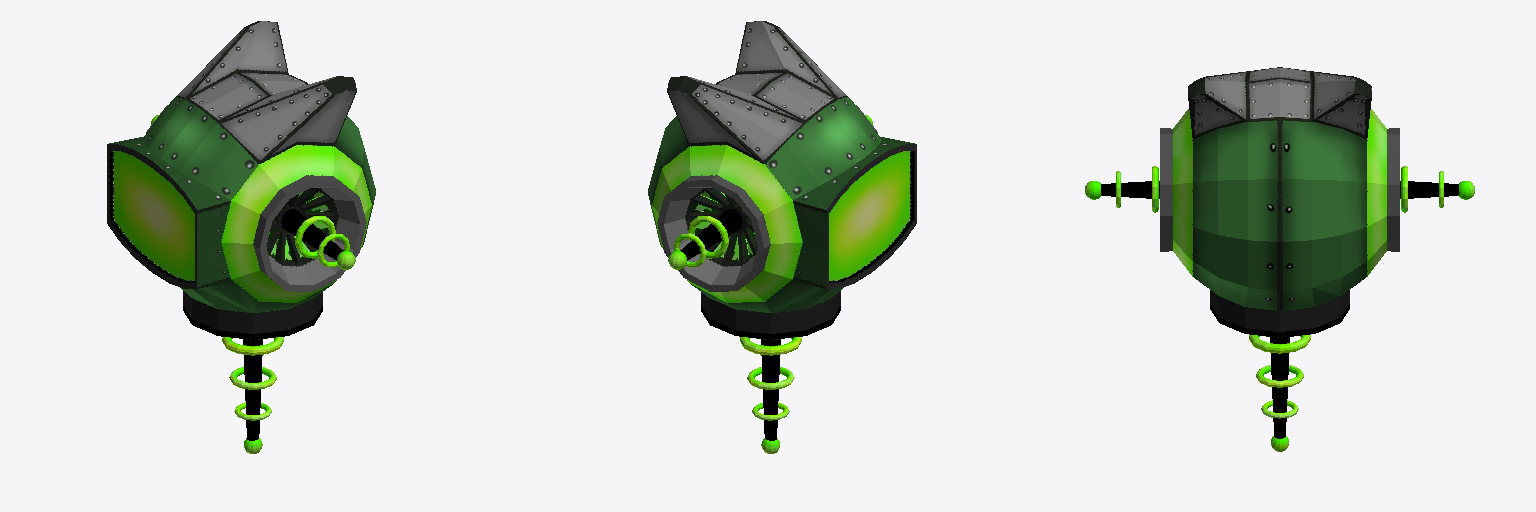
3 renders of one model, left to right at view 1: azimuth 30°, elevation 25°; view 2: azimuth 150°, elevation 25°; view 3: azimuth 270°, elevation 25°, orthographic.
Parts seen in each view (by area): view 1: Object_texture.jpg; view 2: Object_texture.jpg; view 3: Object_texture.jpg.
Part boxes in pixels (x1,y1,x2,y2): Object_texture.jpg: (107, 21, 375, 453); Object_texture.jpg: (648, 21, 916, 453); Object_texture.jpg: (1085, 67, 1474, 451).
Bounding box in the file's own units: 1.38 × 2.5 × 2.25.
2 materials, 1 textured.